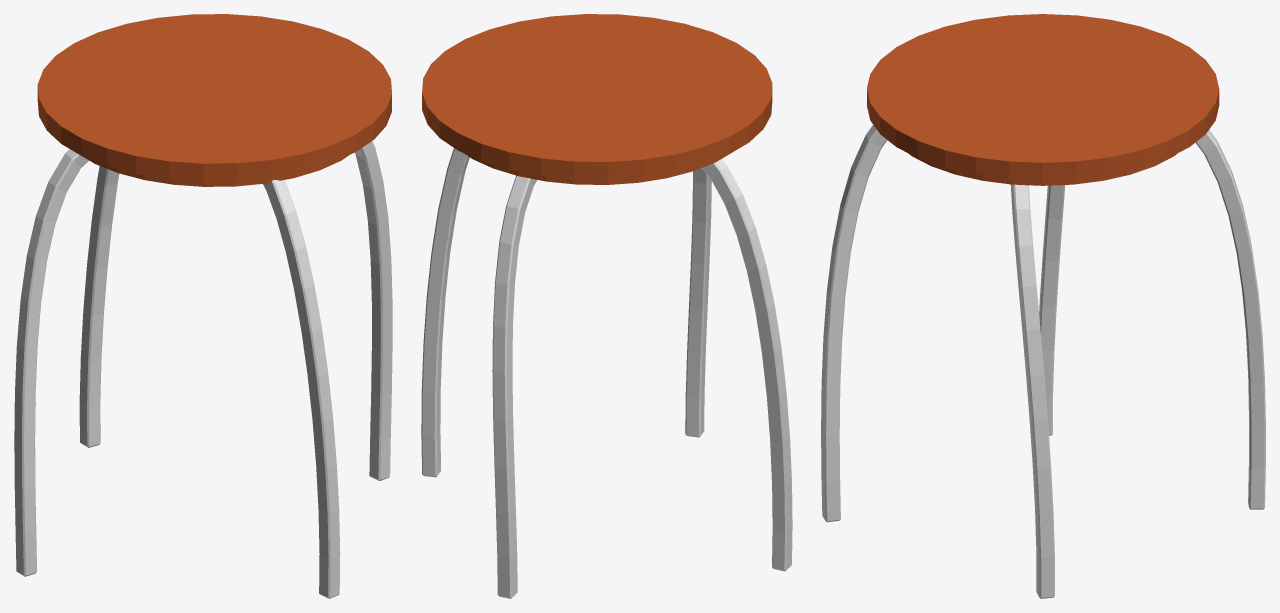
Rendered from CafChair.fbx.
3 views of the same model, side by side, from view 1: azimuth 30°, elevation 25°; view 2: azimuth 150°, elevation 25°; view 3: azimuth 270°, elevation 25° (orthographic).
Parts seen in each view (by area): view 1: Cylinder, BezierCurve.001, BezierCurve.003, BezierCurve, BezierCurve.002, Cylinder.001; view 2: Cylinder, BezierCurve.001, BezierCurve.002, BezierCurve, BezierCurve.003, Cylinder.001; view 3: Cylinder, BezierCurve, BezierCurve.003, BezierCurve.002, BezierCurve.001, Cylinder.001.
Part boxes in pixels (box(x1,y1,x2,y2)): Cylinder: box(37, 14, 391, 181); BezierCurve.001: box(14, 149, 88, 576); BezierCurve.003: box(263, 180, 340, 598); BezierCurve: box(355, 141, 392, 480); BezierCurve.002: box(79, 166, 119, 447); Cylinder.001: box(82, 155, 348, 186); Cylinder: box(422, 14, 772, 179); BezierCurve.001: box(702, 159, 792, 571); BezierCurve.002: box(492, 175, 537, 598); BezierCurve: box(421, 148, 469, 477); BezierCurve.003: box(685, 168, 711, 437); Cylinder.001: box(464, 153, 728, 184); Cylinder: box(867, 14, 1219, 180); BezierCurve: box(1010, 184, 1054, 598); BezierCurve.003: box(821, 125, 887, 522); BezierCurve.002: box(1195, 130, 1265, 509); BezierCurve.001: box(1039, 185, 1065, 435); Cylinder.001: box(908, 153, 1177, 185).
Bounding box in the file's own units: 137 × 155 × 143.
